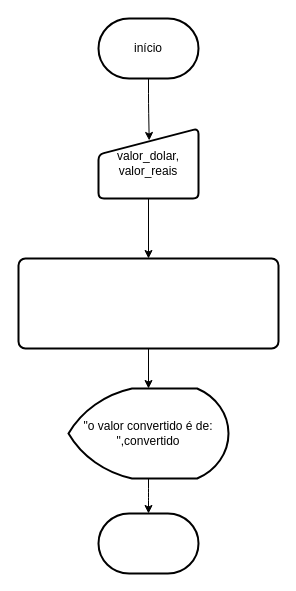
Some shapes in this 296 by 591 pixel diagram are drawn without their labels. Here are the shapes that lost their labels. From the top down, the centre of each, then its label:
(148,303): convertido = valor_dolar, valor_reais
(148,543): fim
